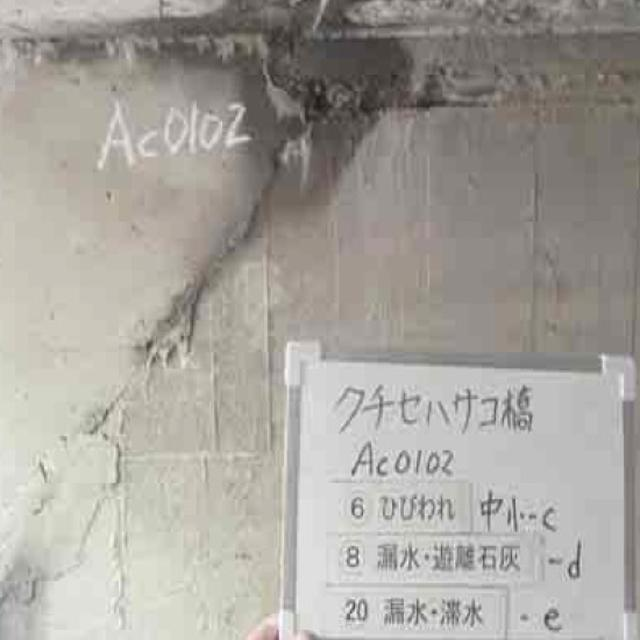leakage: (127, 16, 406, 366)
